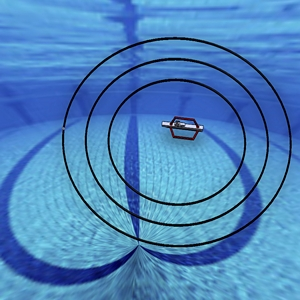circle: (50, 23, 300, 254)
submarine: (156, 107, 210, 149)
